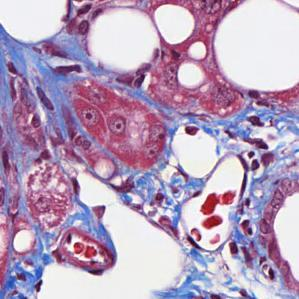ballooning: (83, 6, 162, 79), (167, 121, 223, 180)
